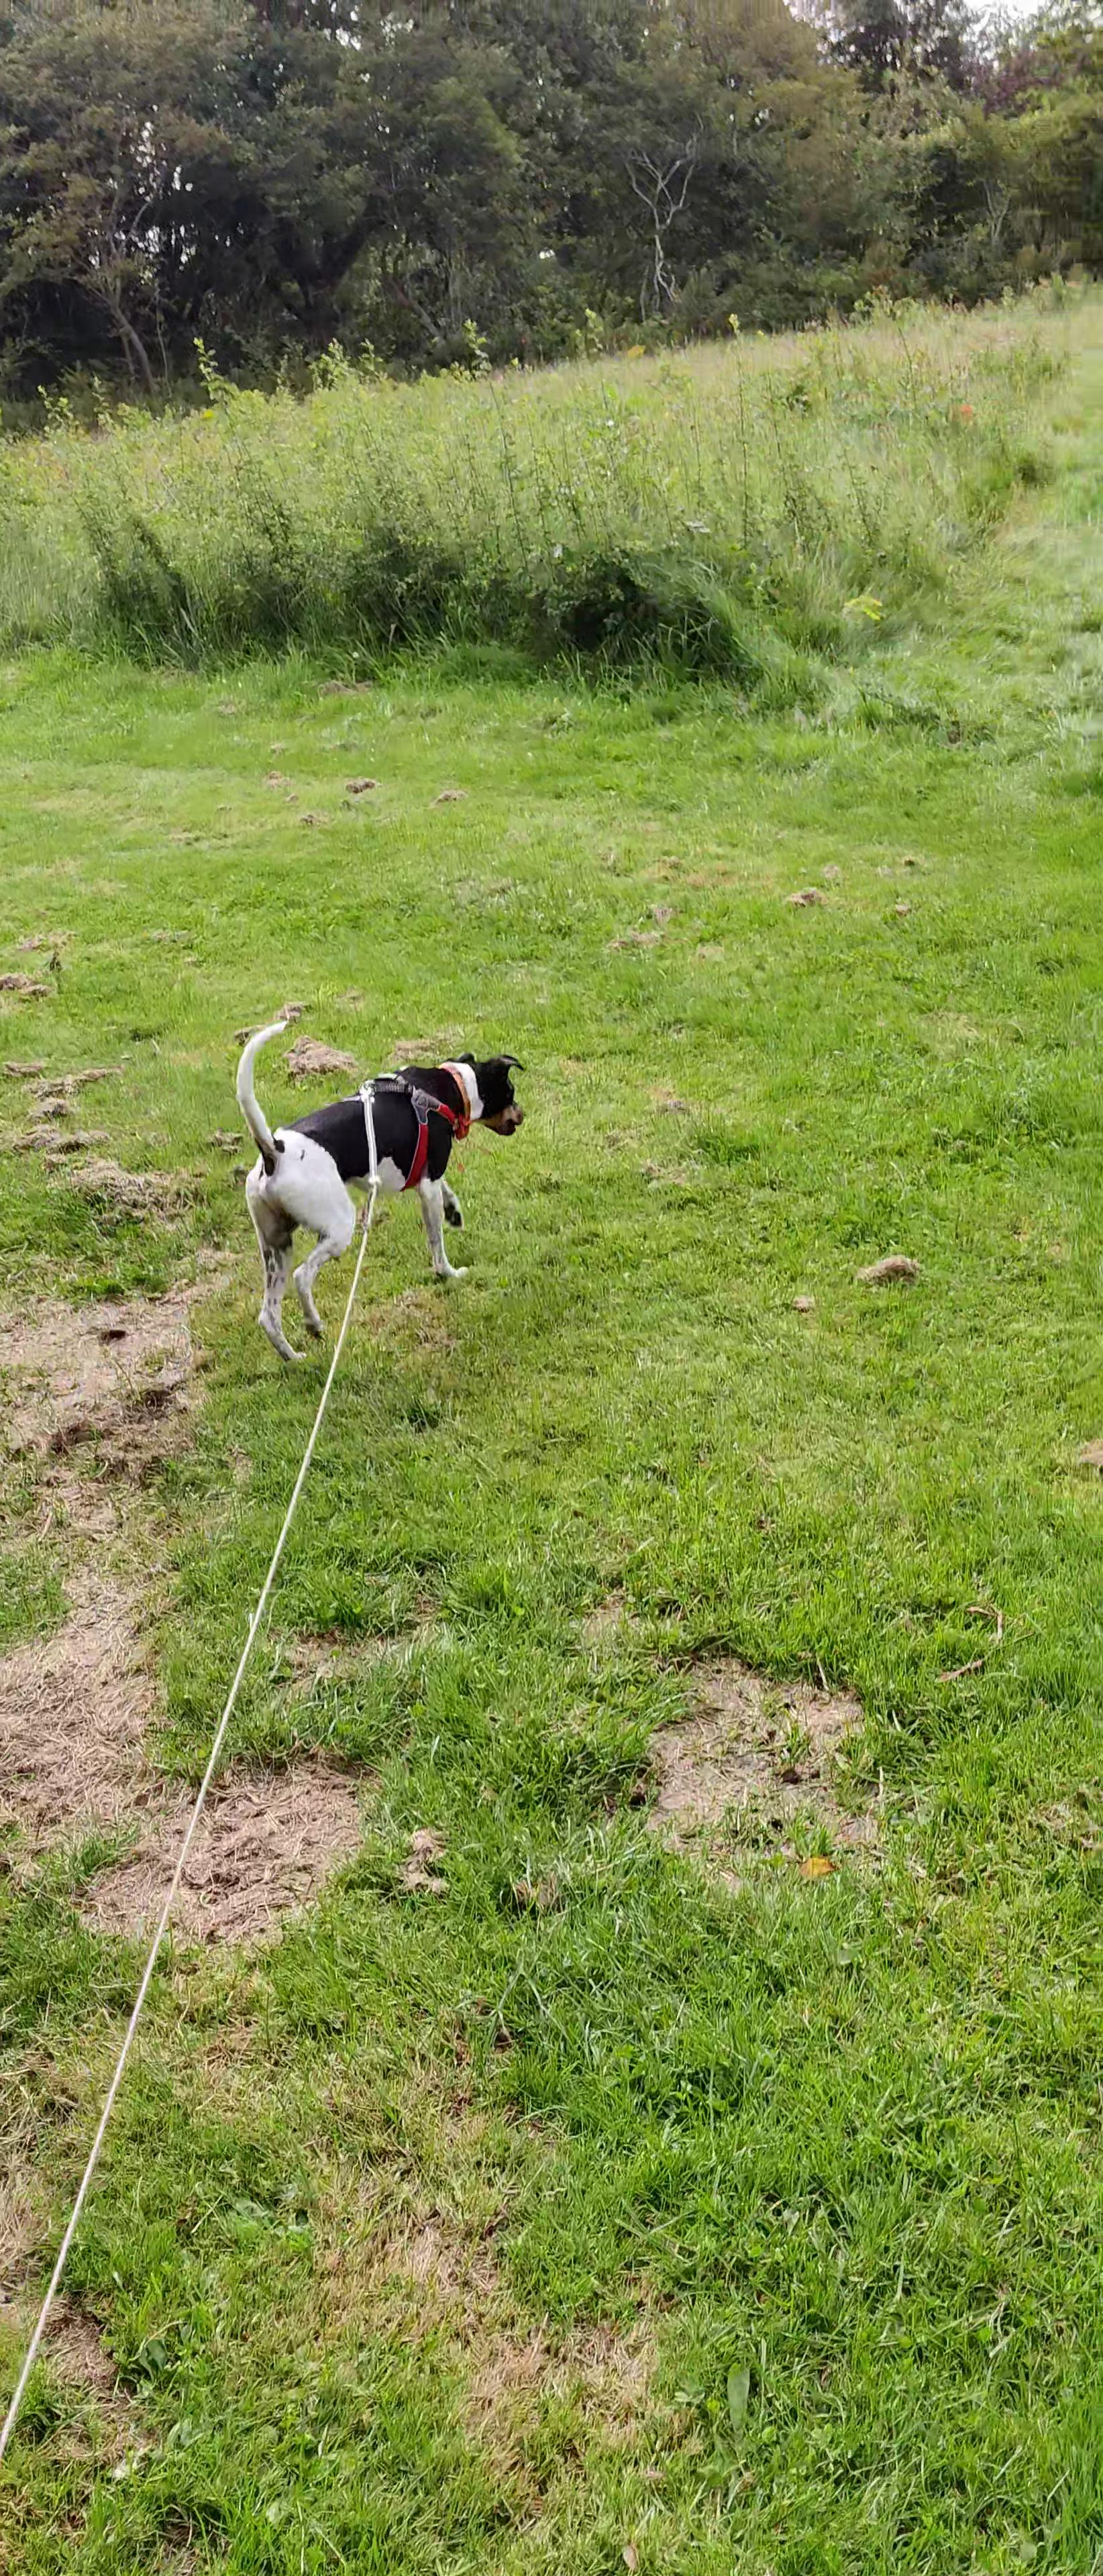Dog: (228, 1014, 533, 1368)
